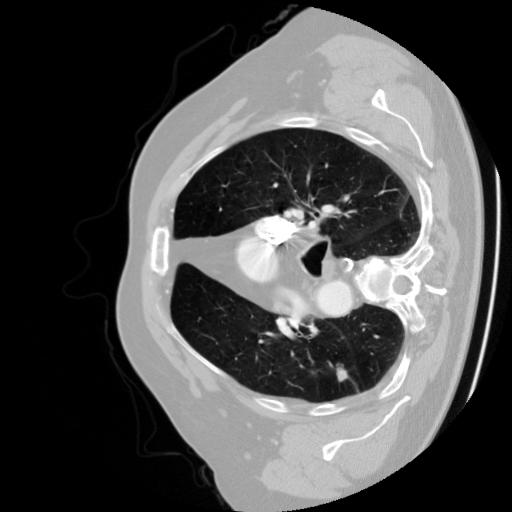nodule: (332, 362, 353, 383)
